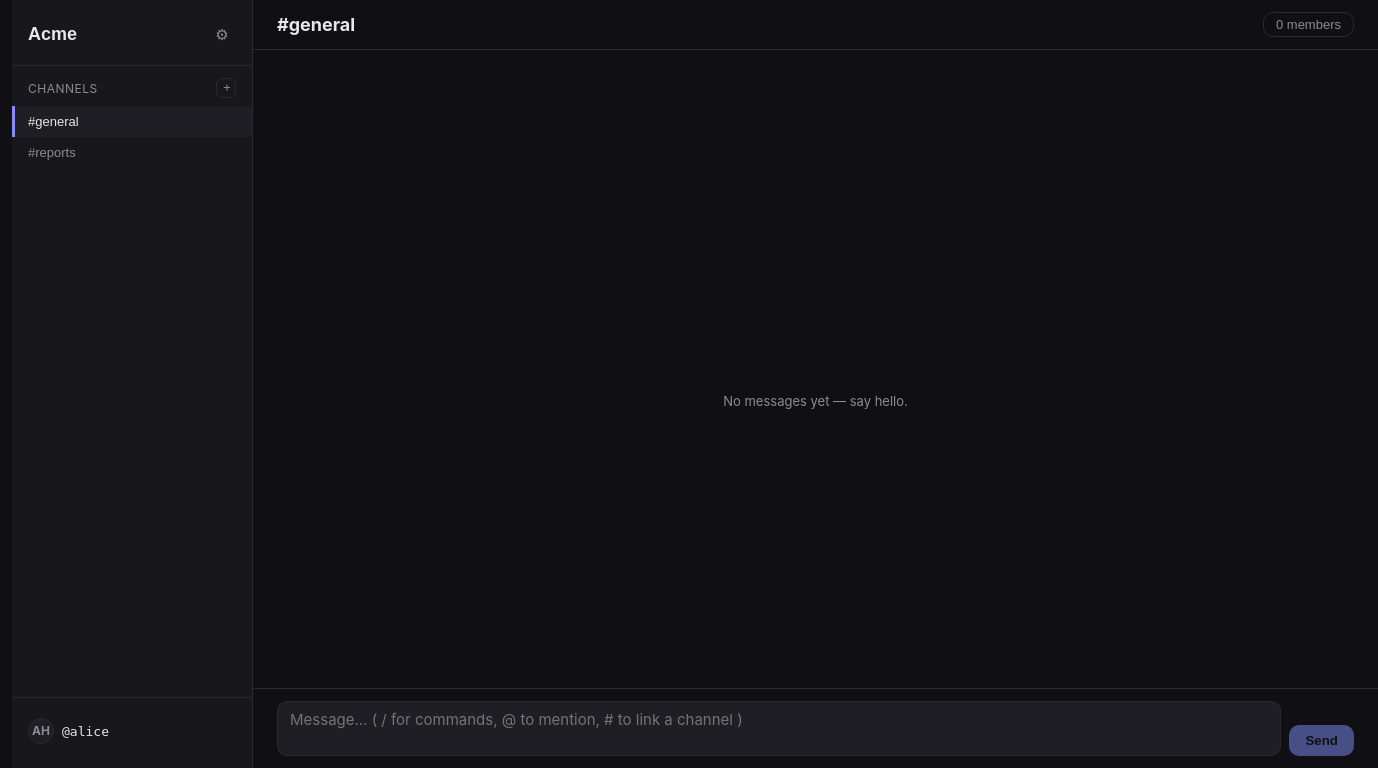
Test: AuthedShell's room socket wiring › opens connectRoom for the current channel, and reconnects (closing the old one) on a channel switch
expect the heading "#general" is shown: met, box [277,14,355,35]
Click the button "#reports".
click(132, 152)  # box [12,137,252,168]
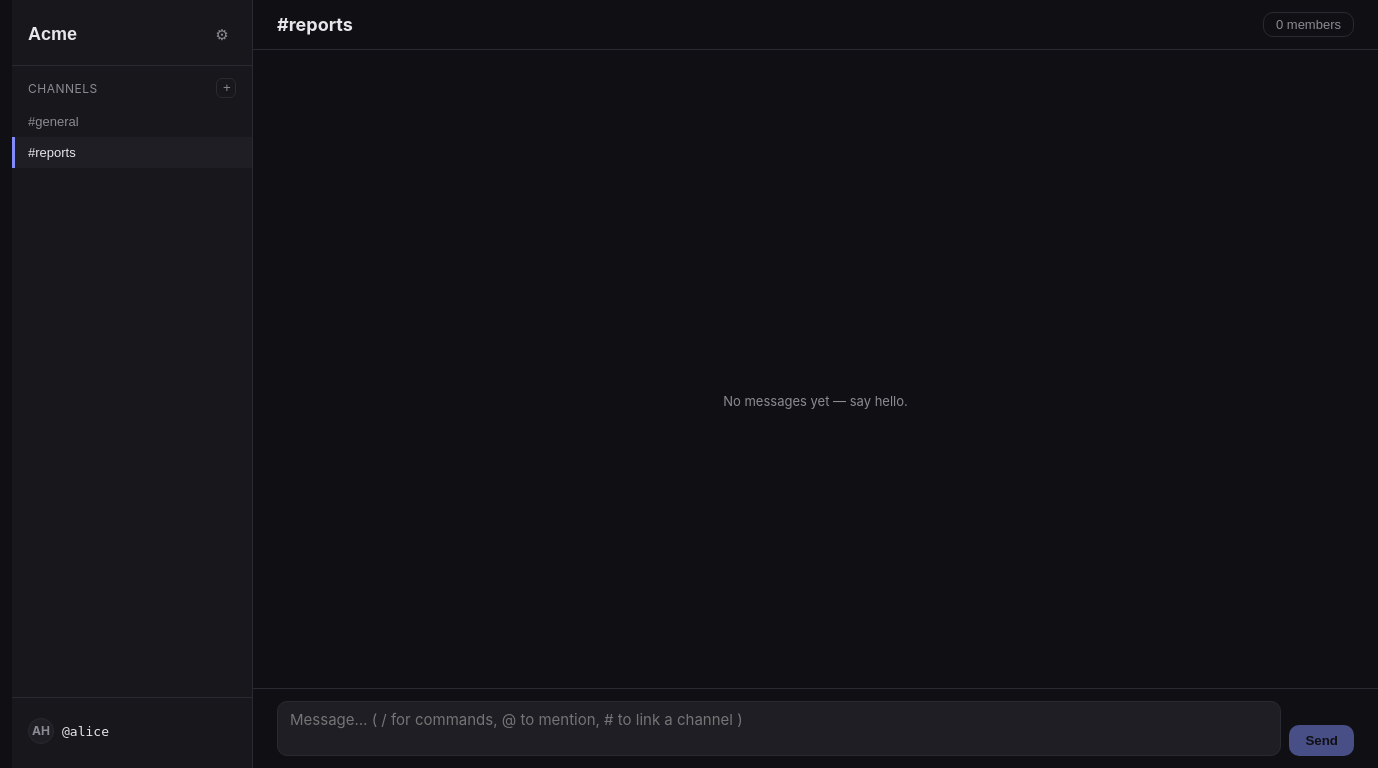
expect the heading "#reports" is shown: met, box [277,14,353,35]
